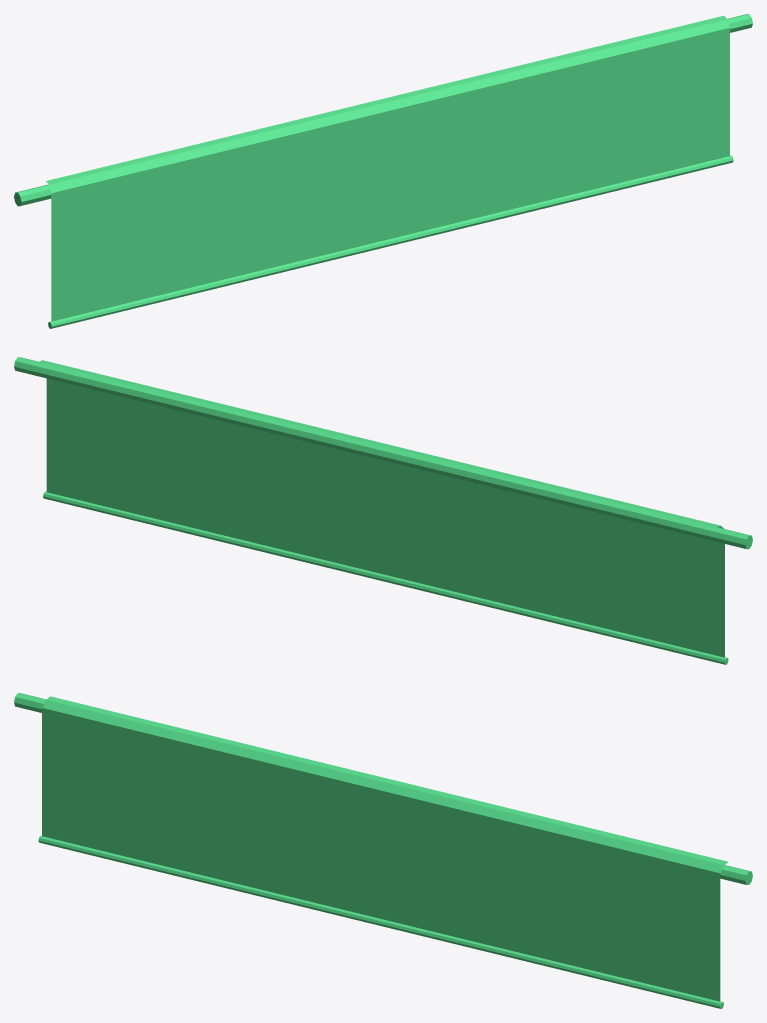
The model's file is Blinds.fbx.
The picture shows the model from 3 angles, top to bottom: view 1: azimuth 30°, elevation 25°; view 2: azimuth 150°, elevation 25°; view 3: azimuth 330°, elevation 25°; orthographic projection.
Parts seen in each view (by area): view 1: Blind; view 2: Blind; view 3: Blind.
Part boxes in pixels (x1=…): Blind: x1=14, y1=14, x2=752, y2=328; Blind: x1=14, y1=357, x2=752, y2=664; Blind: x1=14, y1=693, x2=752, y2=1008.
Size of the model in its own units: 180 by 33.29 by 4.45.
